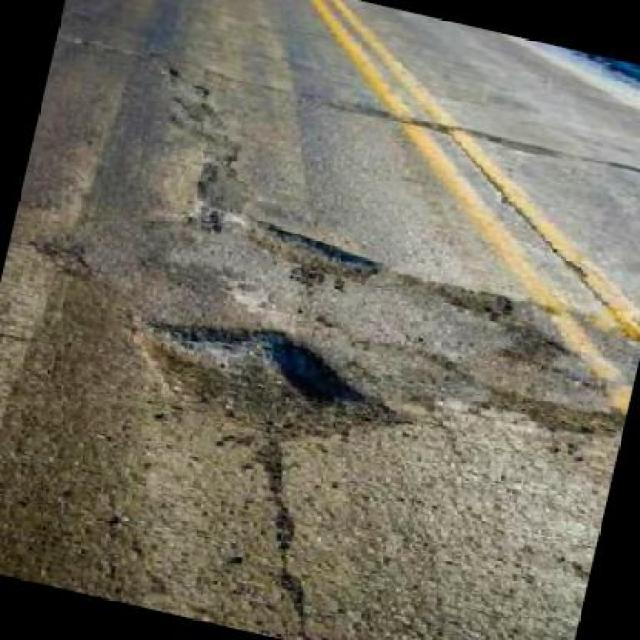pothole1: (112, 296, 418, 470), (476, 374, 627, 452), (239, 215, 393, 288), (423, 273, 523, 322)
